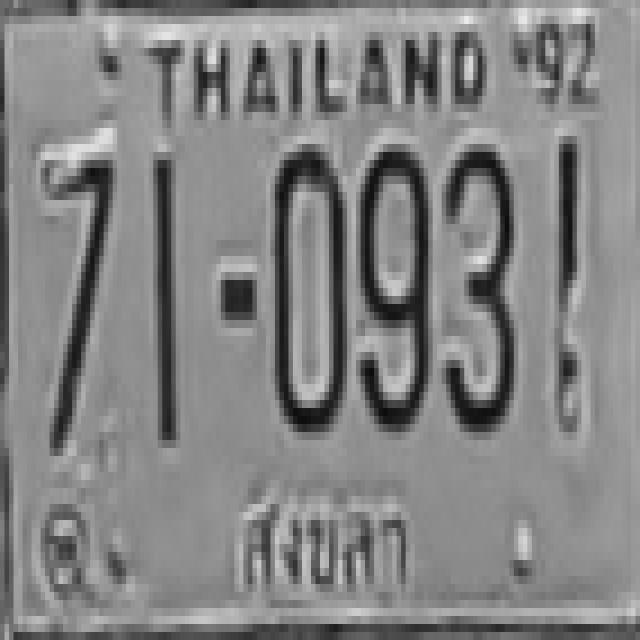0: (270, 136, 342, 424)
1: (552, 132, 579, 428), (151, 152, 174, 440)
3: (442, 136, 514, 424)
7: (41, 148, 112, 444)
9: (356, 136, 428, 424)
Songkhla: (231, 487, 418, 594)
